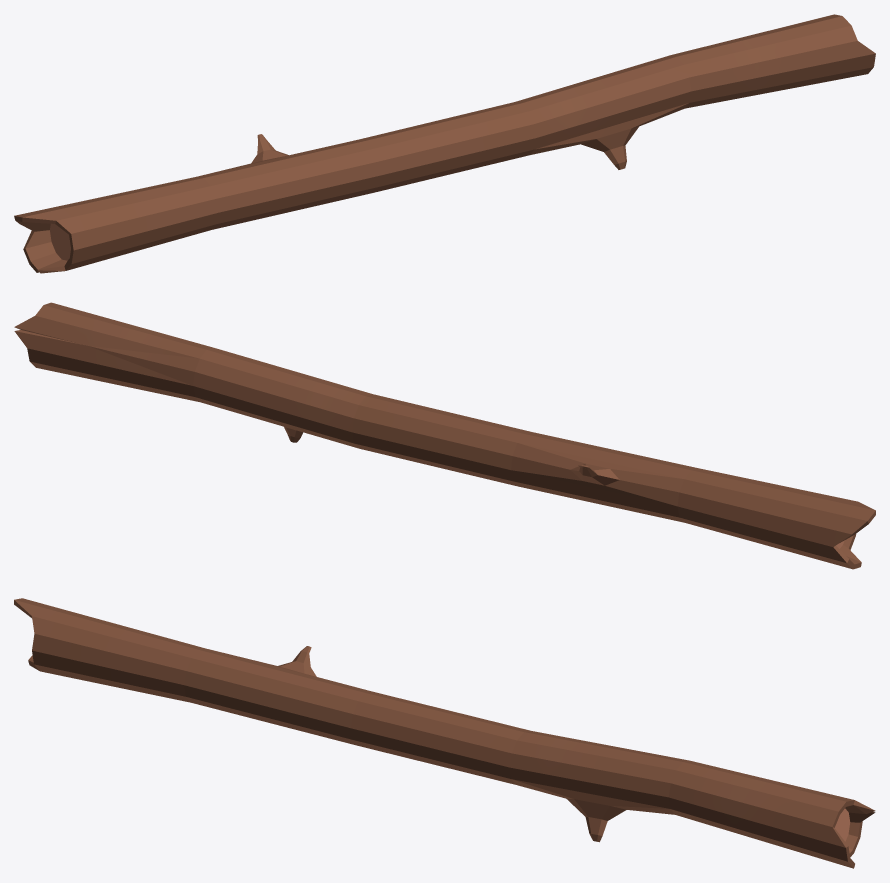
Rendered from mod_bg_RondinMoyenMoyen.fbx.
3 renders of one model, top to bottom at view 1: azimuth 30°, elevation 25°; view 2: azimuth 150°, elevation 25°; view 3: azimuth 330°, elevation 25°, orthographic.
Parts seen in each view (by area): view 1: RondinMoyenMoyen; view 2: RondinMoyenMoyen; view 3: RondinMoyenMoyen.
Boxes of the visible parts, <box> form: RondinMoyenMoyen: <box>14,14,875,273</box>; RondinMoyenMoyen: <box>14,302,875,569</box>; RondinMoyenMoyen: <box>14,598,875,868</box>.
Bounding box in the file's own units: 295 × 29.38 × 26.94.
